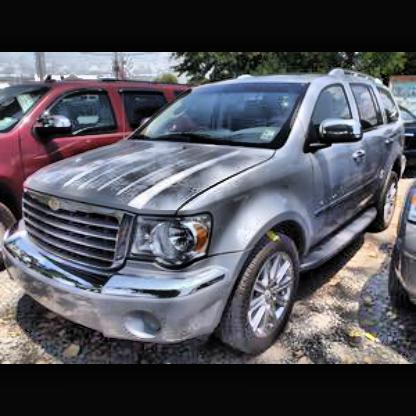Chrysler Aspen SUV 2009: (9, 76, 415, 360)
